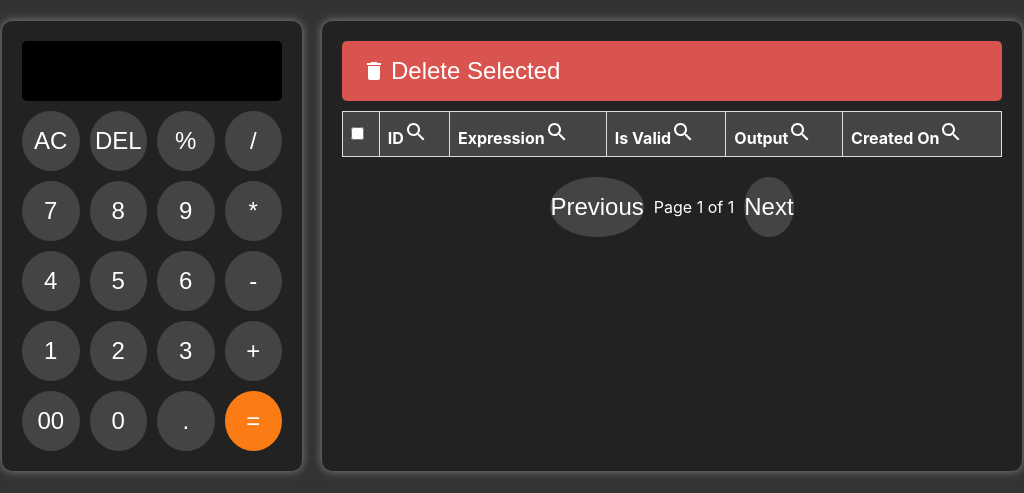
Test: Calculator Component › clicking on number buttons updates the display correctly
What coordinates should you click on to do the following:
click the button "1"
I would click on:
 (51, 351)
Its box is [22,321,80,381].
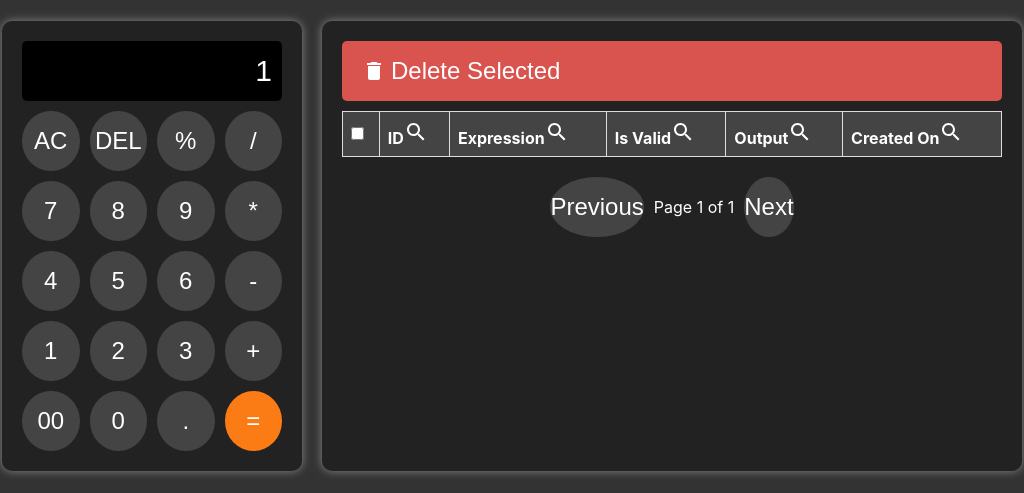
What coordinates should you click on to do the following:
click the button "2"
I would click on:
 (118, 351)
Its box is [90,321,147,381].
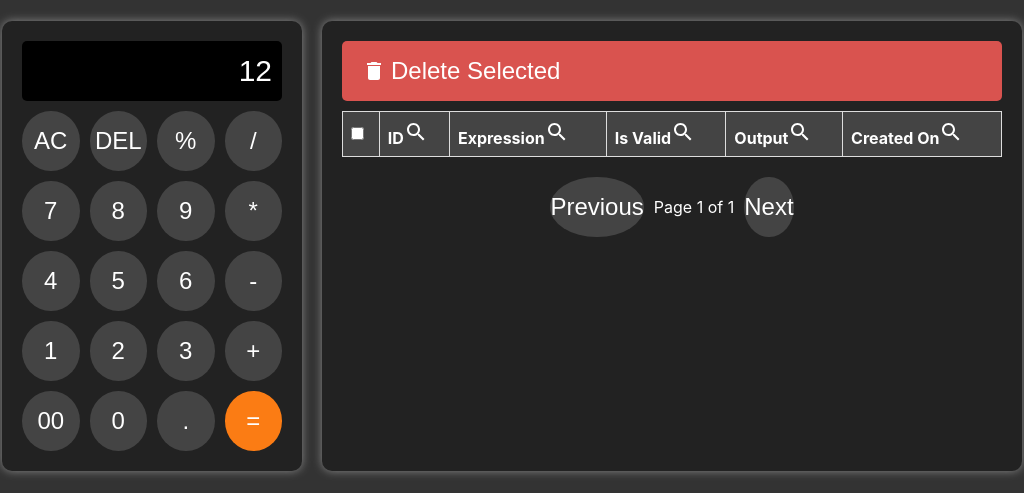
What coordinates should you click on to do the following:
click the button "3"
I would click on:
 (186, 351)
Its box is [157,321,214,381].
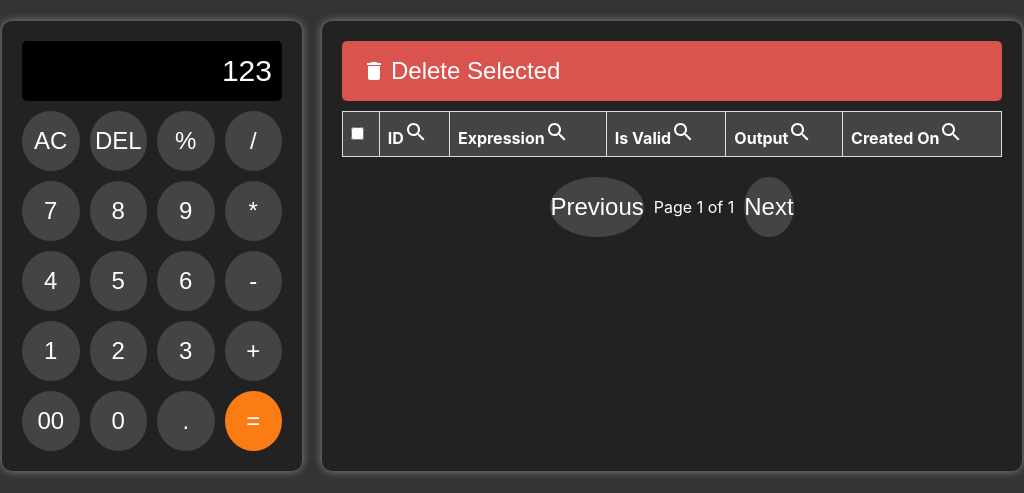
Result: the field holds "123" at [22,41,282,101]
